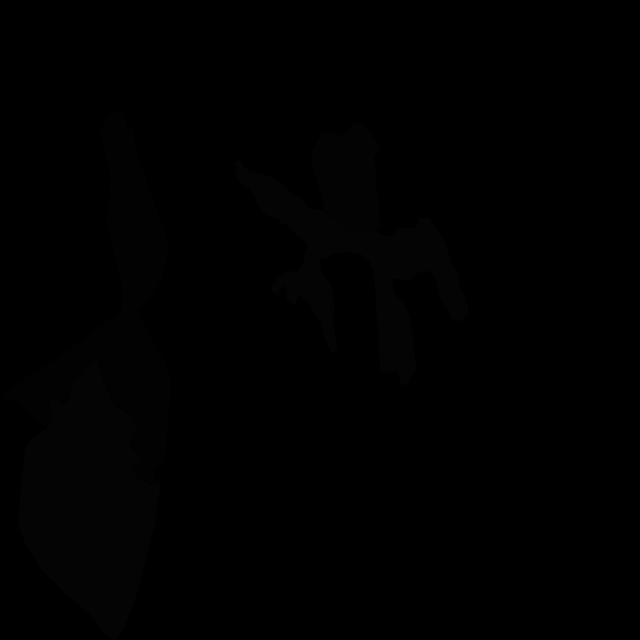cardboard: (2, 285, 171, 485), (100, 111, 169, 313)
metal: (311, 122, 380, 231)
soft_plastic: (235, 160, 468, 387), (18, 358, 160, 640)
